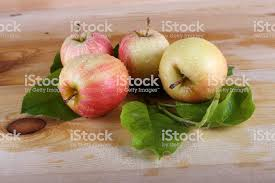apple: (162, 38, 233, 101), (63, 56, 129, 115), (118, 28, 172, 73), (64, 32, 115, 64)
